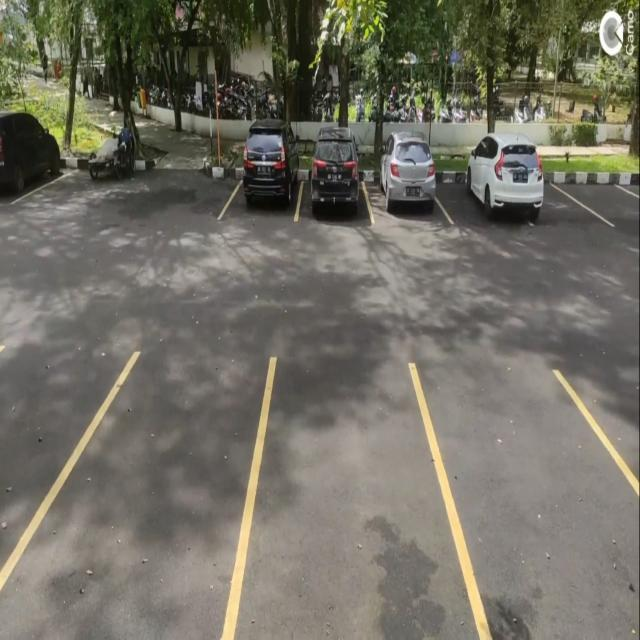empty: (35, 351, 249, 640), (249, 356, 460, 640), (452, 370, 640, 639), (568, 167, 640, 227)
occupied: (443, 133, 544, 229), (223, 117, 302, 227), (296, 126, 373, 222), (367, 131, 445, 224)
